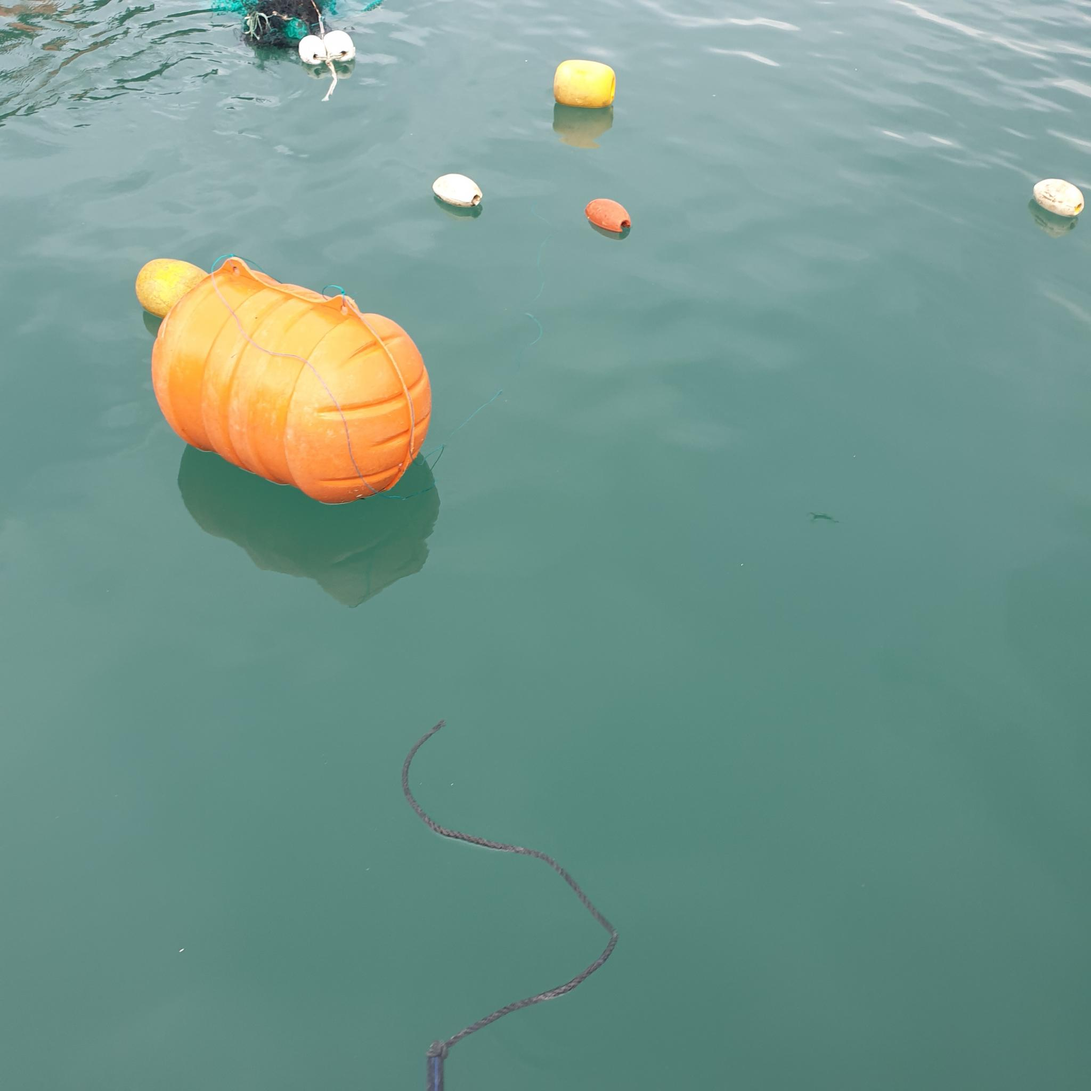sampah_terapung: (402, 720, 622, 1091), (151, 257, 433, 504), (211, 1, 385, 50), (136, 258, 210, 320), (553, 60, 616, 109), (1033, 179, 1085, 218), (433, 174, 483, 209), (585, 199, 632, 233), (323, 30, 356, 63), (298, 36, 327, 65), (323, 63, 339, 102)
